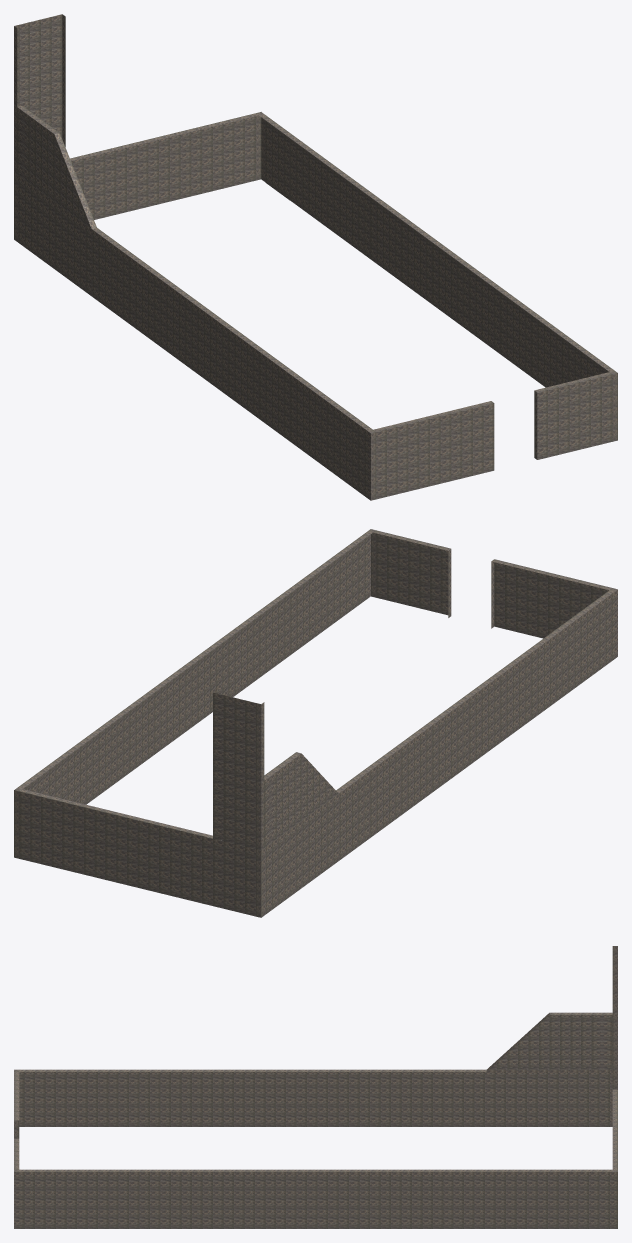
The model's file is ext1.obj.
3 views of the same model, one above another, from view 1: azimuth 30°, elevation 25°; view 2: azimuth 150°, elevation 25°; view 3: azimuth 270°, elevation 25° (orthographic). The views are drawn at different scales.
Parts seen in each view (by area): view 1: pasted__pasted__pasted__pasted__pasted__pasted__pasted__pasted__; view 2: pasted__pasted__pasted__pasted__pasted__pasted__pasted__pasted__; view 3: pasted__pasted__pasted__pasted__pasted__pasted__pasted__pasted__.
Boxes of the visible parts, x1,y1,x2,y2 form: pasted__pasted__pasted__pasted__pasted__pasted__pasted__pasted__: (14, 14, 617, 500); pasted__pasted__pasted__pasted__pasted__pasted__pasted__pasted__: (14, 529, 617, 917); pasted__pasted__pasted__pasted__pasted__pasted__pasted__pasted__: (14, 946, 617, 1228).
Size of the model in its own units: 23 by 19 by 57.51.
1266 materials, 1266 textured.
